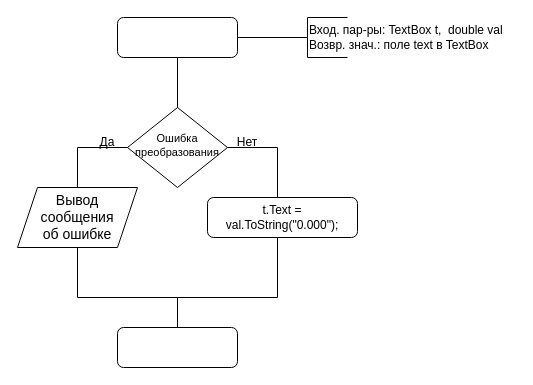
Some shapes in this 533 by 385 pixel diagram are drawn without their labels. Each missing label, with the centre of its shape:
Output: the point at 177,37
Конец: the point at 177,347
